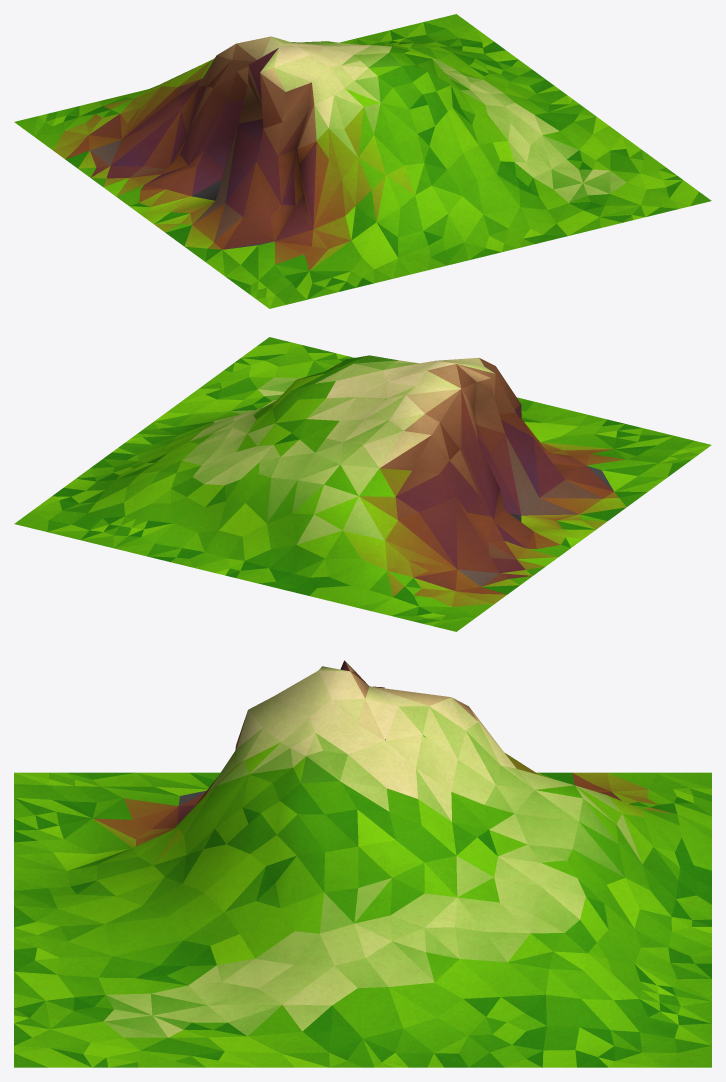
File: Terrain-part-01.fbx
The picture shows the model from 3 angles, top to bottom: view 1: azimuth 30°, elevation 25°; view 2: azimuth 150°, elevation 25°; view 3: azimuth 270°, elevation 25°; orthographic projection. The views are drawn at different scales.
Visible parts, largest first — view 1: Terrain-part-01; view 2: Terrain-part-01; view 3: Terrain-part-01.
Boxes of the visible parts, x1=… form: Terrain-part-01: x1=14, y1=14, x2=711, y2=308; Terrain-part-01: x1=14, y1=337, x2=711, y2=631; Terrain-part-01: x1=14, y1=660, x2=711, y2=1067.
Size of the model in its own units: 18 by 5.4 by 18.
